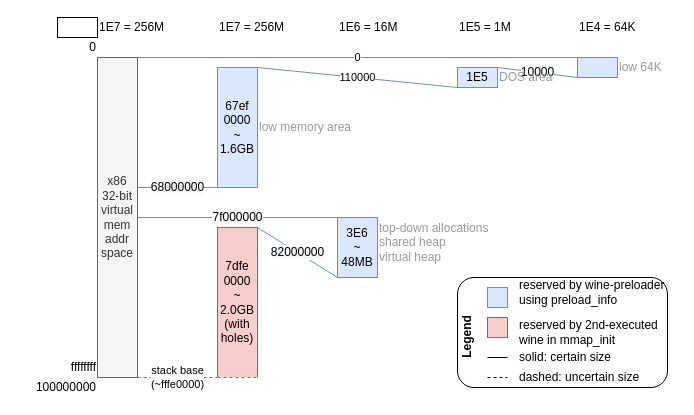
Image size: 694x415. Some labels were removed from this diagram. The box of each missing label's shape, as (x1, y1, x2, y2) in pixels:
1E4: (576, 56, 618, 78)
Unit: (56, 16, 98, 38)
